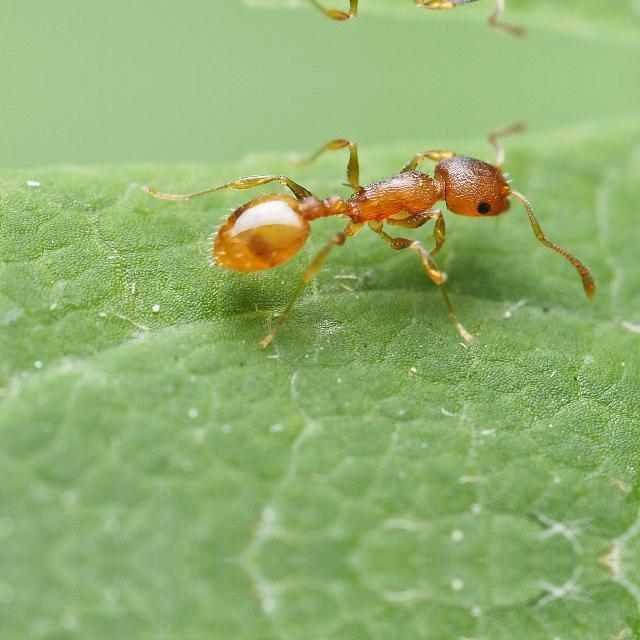Temnothorax: (162, 106, 590, 324), (162, 0, 590, 54)
